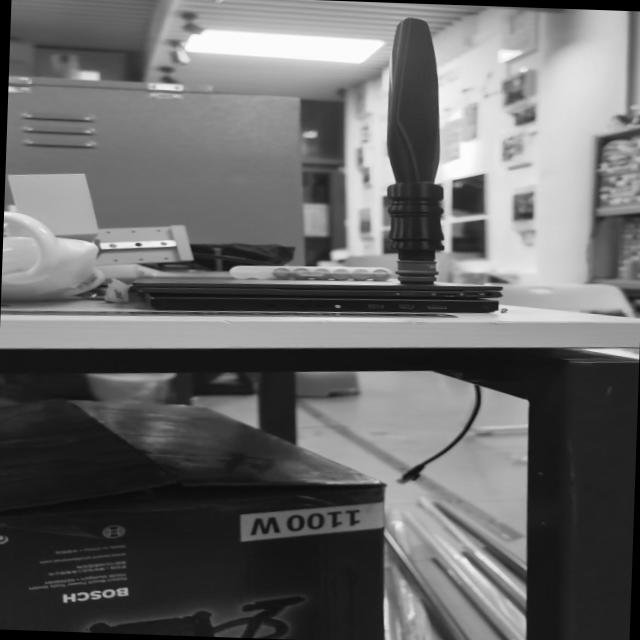base: (388, 255, 447, 292)
